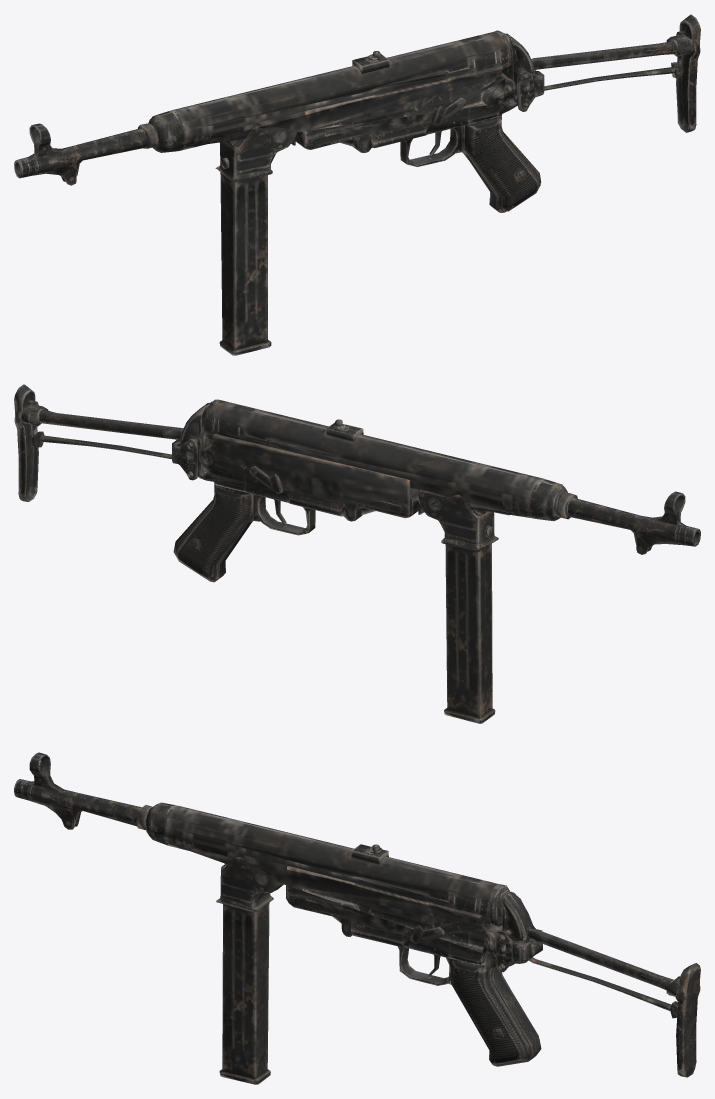
File: Meshy_AI_model.fbx
3 views of the same model, one above another, from view 1: azimuth 30°, elevation 25°; view 2: azimuth 150°, elevation 25°; view 3: azimuth 330°, elevation 25° (orthographic).
Visible parts, largest first — view 1: Mesh_0; view 2: Mesh_0; view 3: Mesh_0.
Part boxes in pixels (box(x1,y1,x2,y2)): Mesh_0: box(14, 14, 700, 355); Mesh_0: box(14, 384, 700, 723); Mesh_0: box(14, 752, 700, 1084).
Bounding box in the file's own units: 95.75 × 36.62 × 6.05.
Materials: 1 (1 with a texture image).
